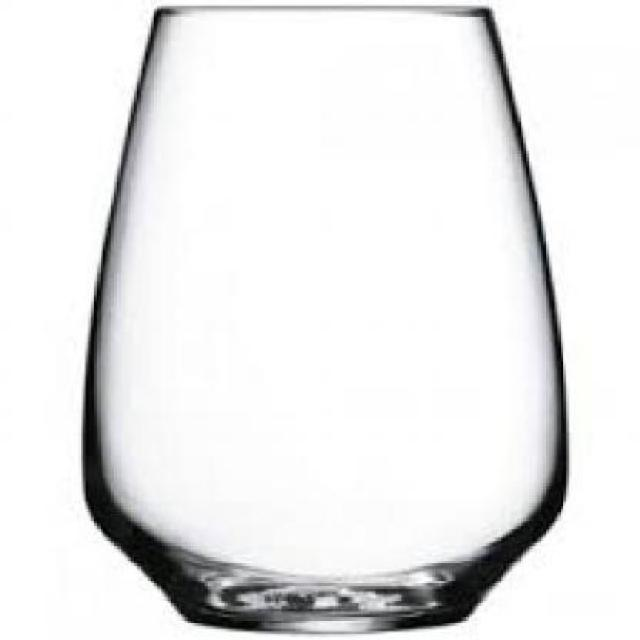kaca: (83, 3, 566, 629)
